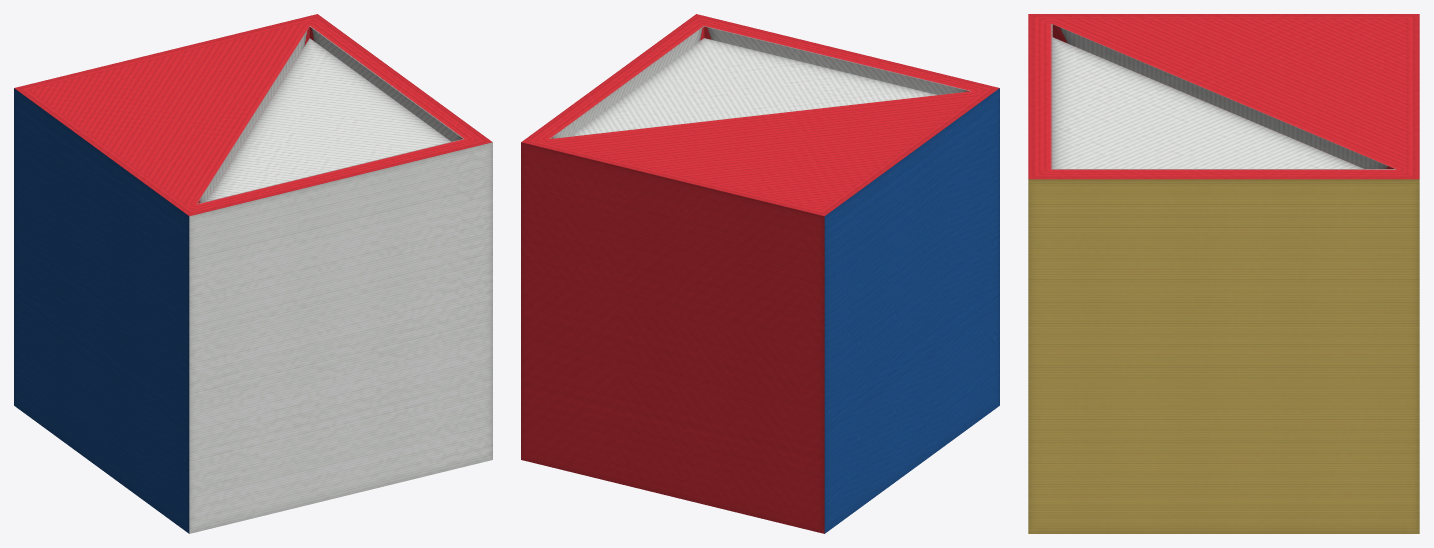
The model's file is color-cube-printed.glb.
The picture shows the model from 3 angles, left to right: view 1: azimuth 30°, elevation 25°; view 2: azimuth 150°, elevation 25°; view 3: azimuth 270°, elevation 25°; orthographic projection. The views are drawn at different scales.
Parts seen in each view (by area): view 1: ColorCubePrinted; view 2: ColorCubePrinted; view 3: ColorCubePrinted.
Part boxes in pixels (x1=…): ColorCubePrinted: x1=14, y1=14, x2=492, y2=533; ColorCubePrinted: x1=521, y1=14, x2=999, y2=533; ColorCubePrinted: x1=1028, y1=14, x2=1419, y2=533.
Bounding box in the file's own units: 0.0275 × 0.0275 × 0.0275.
1 material, 1 textured.
